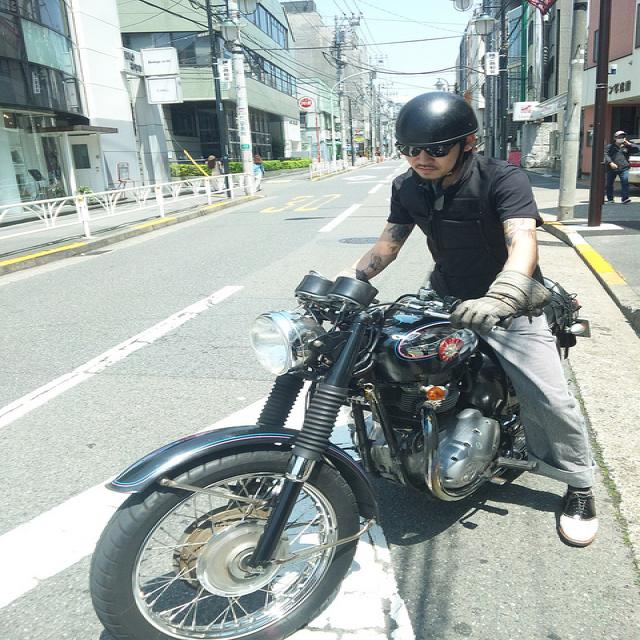motor: (90, 274, 533, 633)
